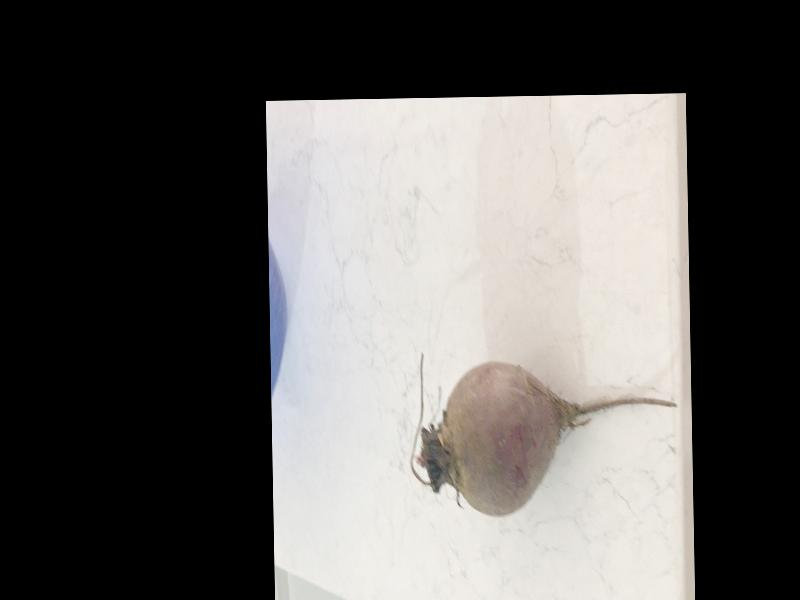Beet: (407, 346, 678, 517)
